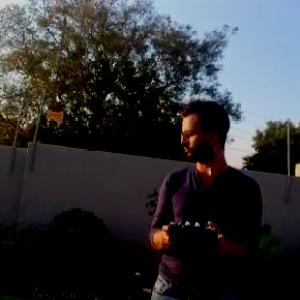follow: (143, 93, 266, 299)
